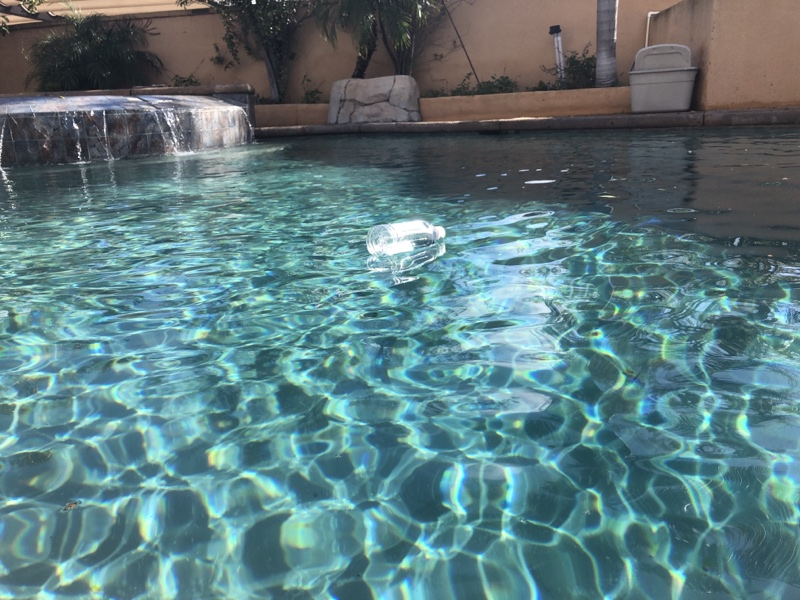Plastic Bottle: (363, 218, 450, 257)
